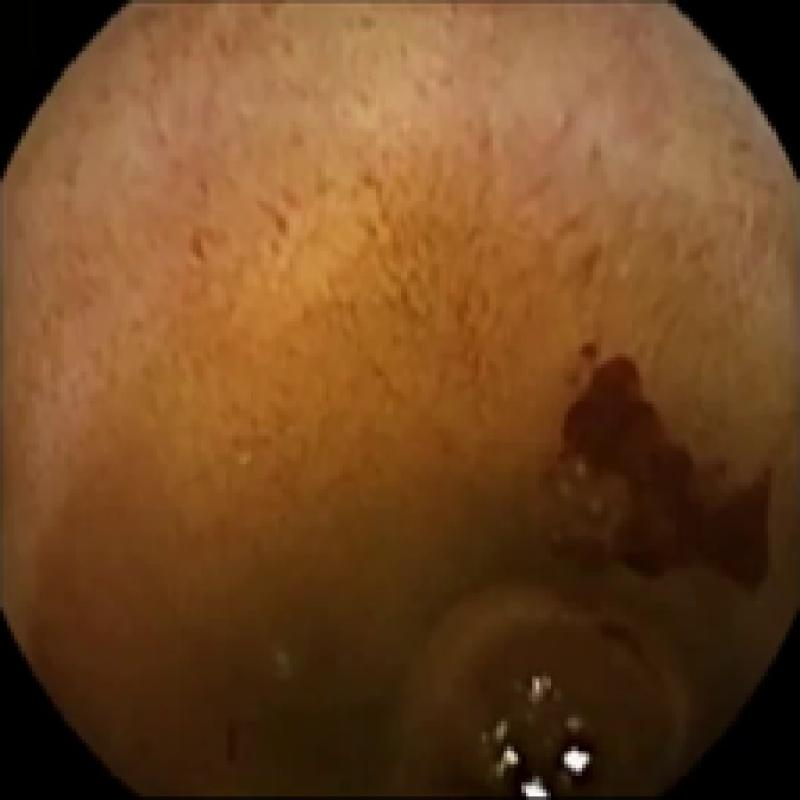bleeding: (554, 336, 778, 589)
